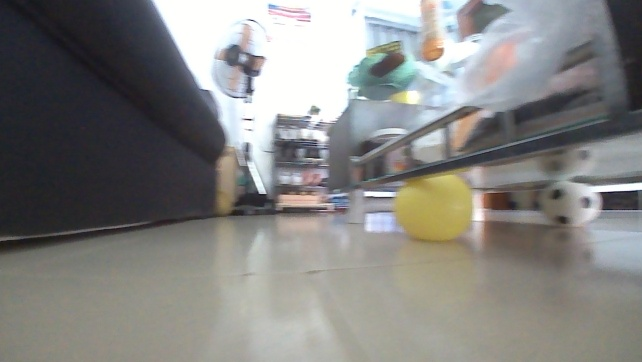sofa1: (0, 0, 225, 245)
